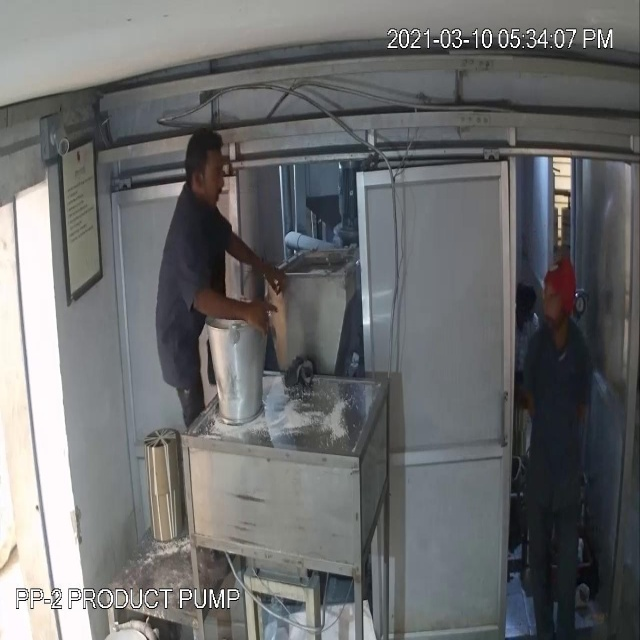Sin_guantes: (219, 218, 298, 314), (191, 268, 274, 341)
